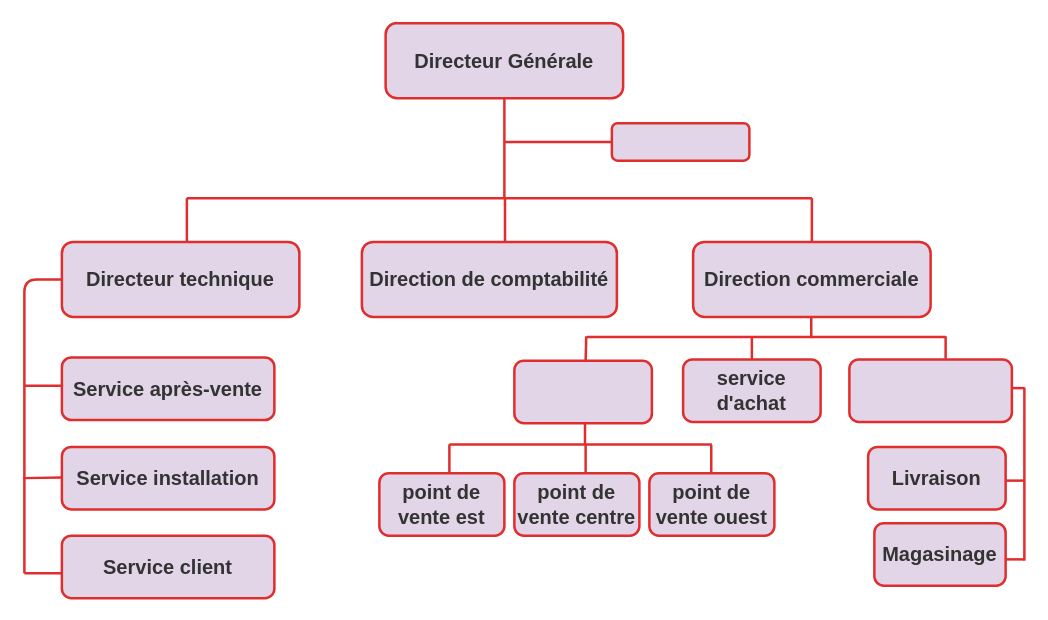
The diagram is 1048 pixels wide and 620 high, and some of its shapes have lost their labels. Each missing label, with the centre of its shape:
Secrétaire: point 680,141
service de vente: point 582,391
Service logistique: point 930,390
